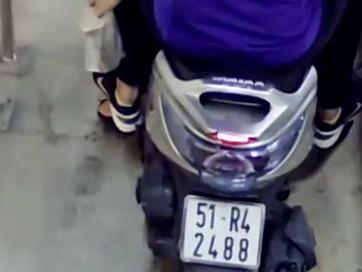num_plate: (180, 194, 265, 272)
